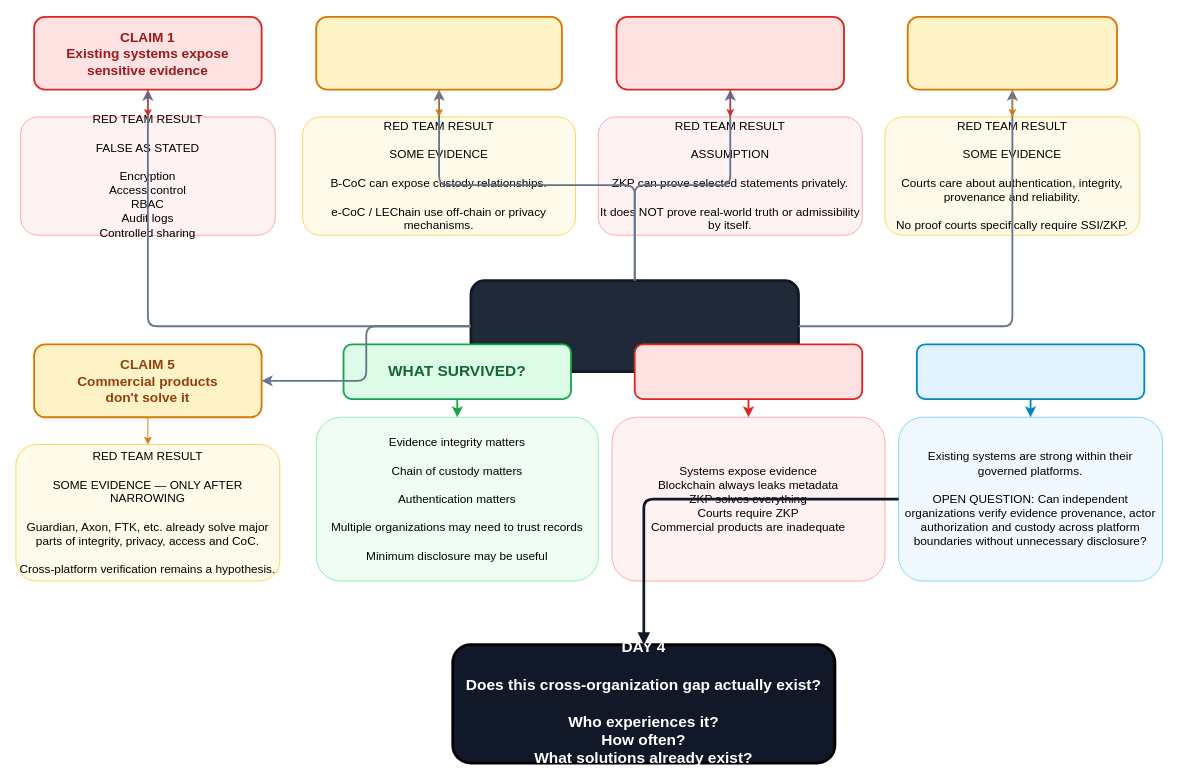
Some shapes in this 1178 by 784 pixel diagram are drawn without their labels. Here are the shapes that lost their labels. From the top down, the box of each, then its label:
(315, 15, 562, 90): CLAIM 2 Blockchain systems expose sensitive metadata
(615, 15, 844, 90): CLAIM 3 ZKP solves the remaining problem
(906, 15, 1117, 90): CLAIM 4 Courts actually need this
(469, 279, 799, 373): DAY 3 ATTACK OUR OWN PROBLEM
(633, 343, 863, 399): ASSUMPTIONS KILLED
(915, 343, 1145, 399): REVISED HYPOTHESIS
